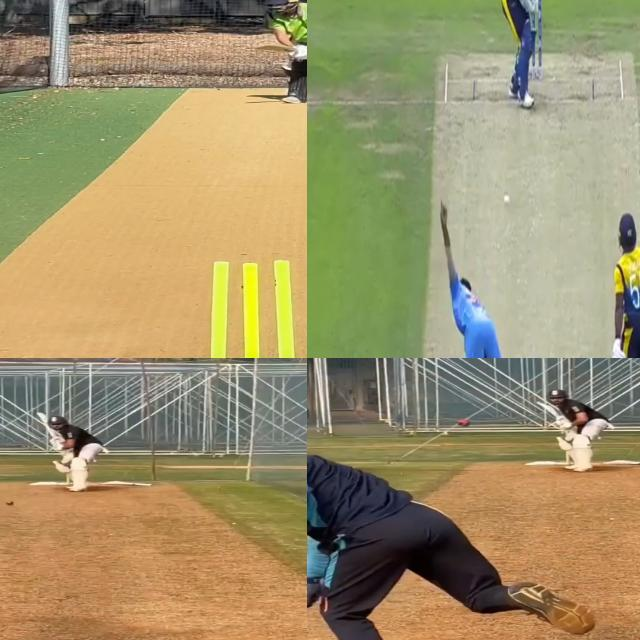Cricket ball: (502, 193, 512, 208), (458, 419, 471, 426), (5, 501, 14, 506)
Stumps: (198, 255, 305, 358)
